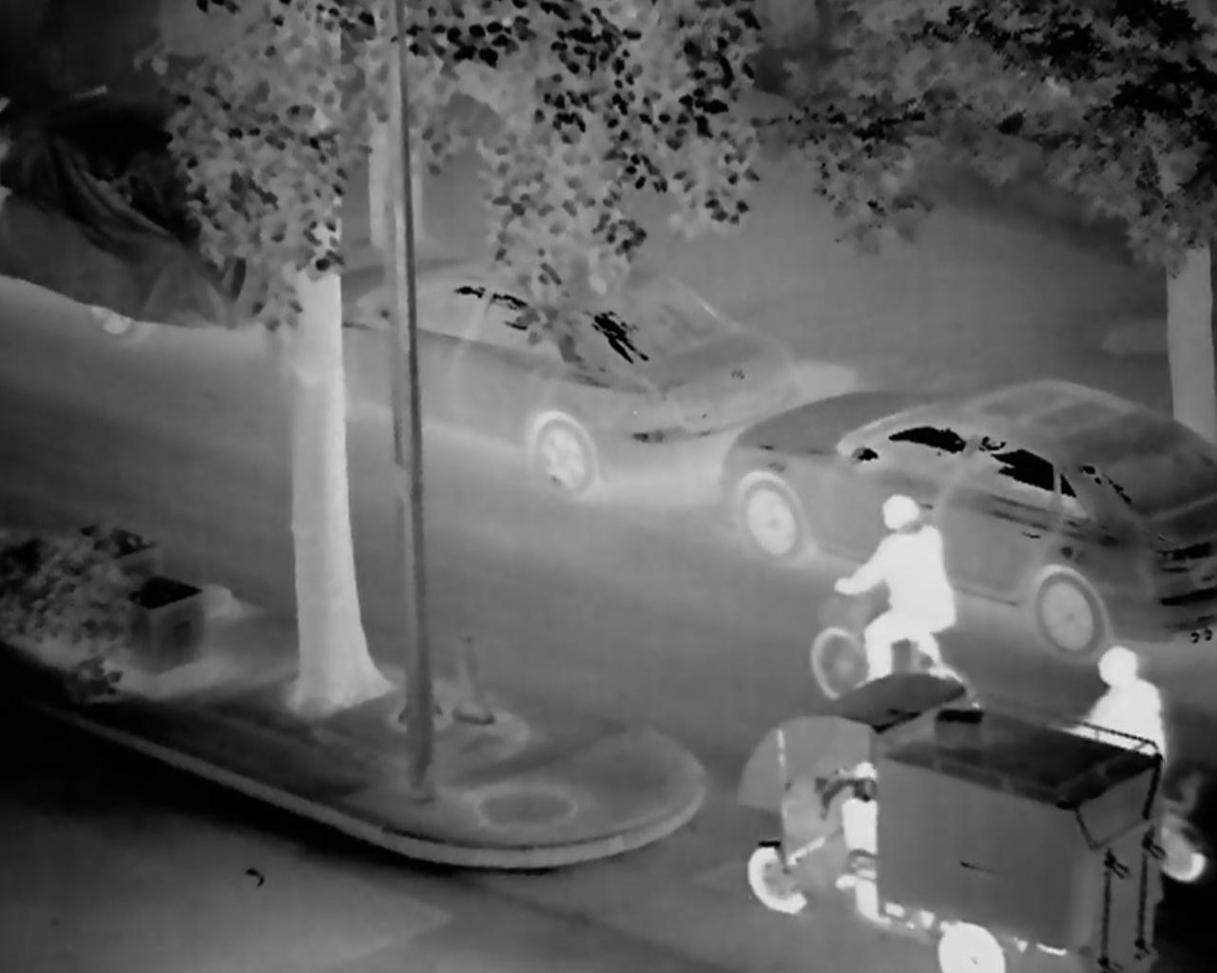person: (827, 493, 972, 689), (1065, 648, 1182, 771), (797, 754, 881, 886)
